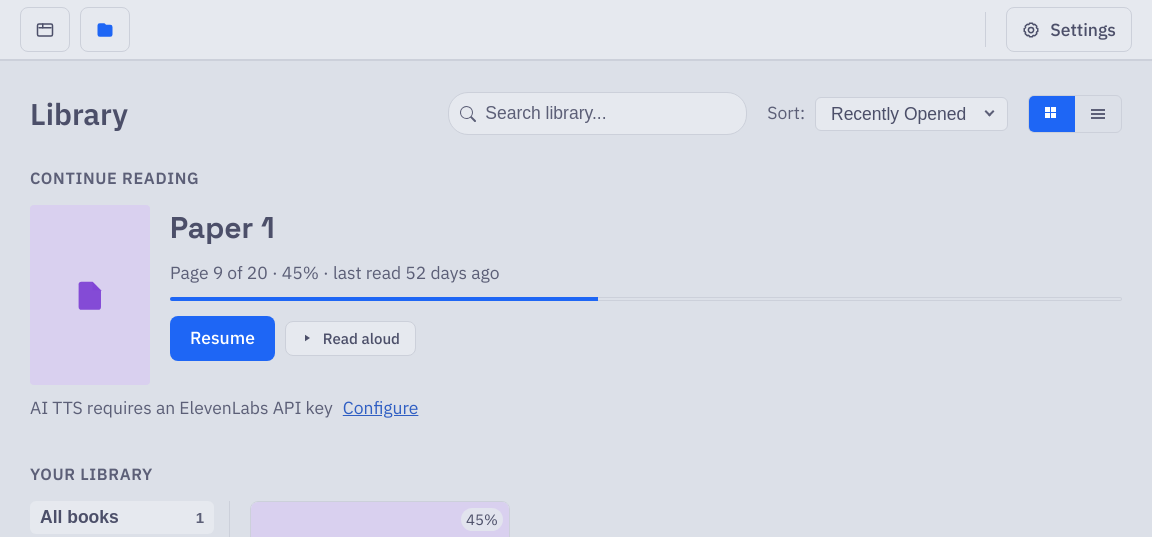
Scenario: restoring a reading session › fails closed on success=false: explicit error, no document opened (issue #185)
Expected: the heading "Library" is shown, [30,91,128,136]
Click the button named "Sessions". click: point(45, 30)
box: [20,7,70,52]
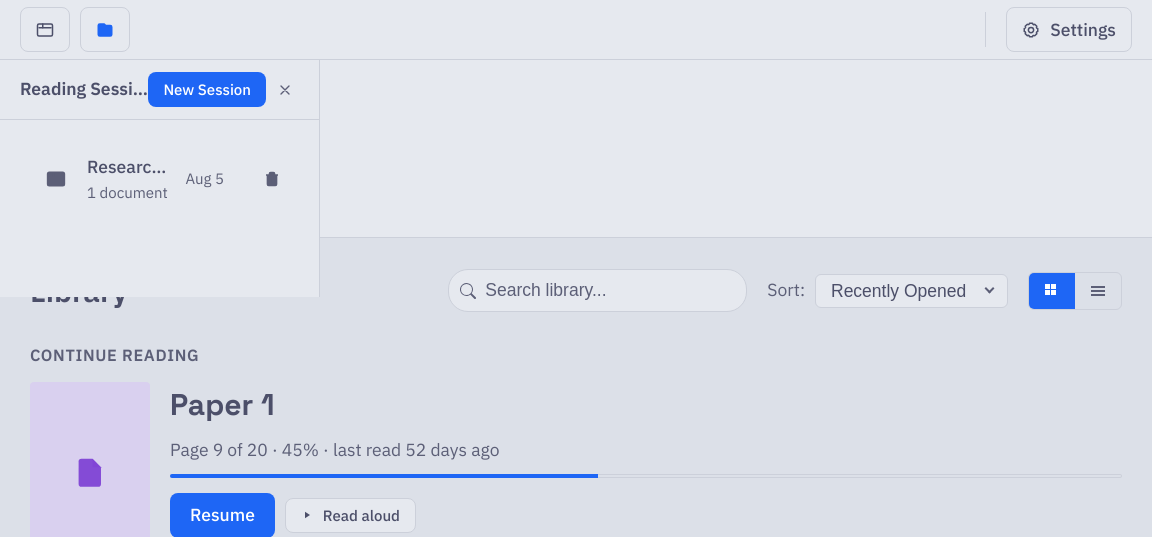
Click the button "Research Papers 1 document Aug 5". click: point(132, 178)
box: [20,140,244,217]
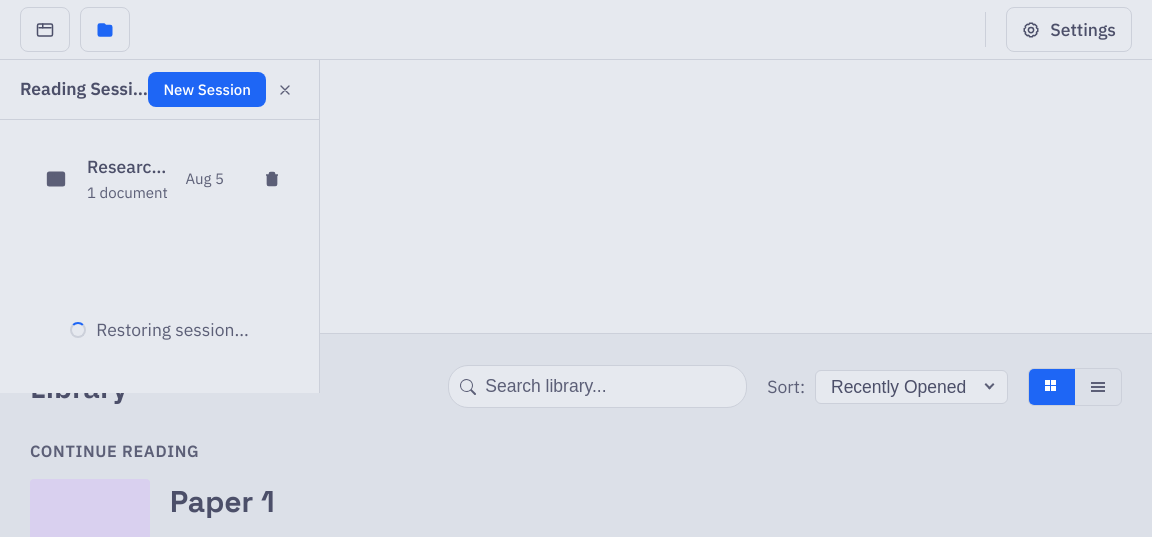
Click the button "Research Papers 1 document Aug 5". click: point(132, 178)
box: [20,140,244,217]
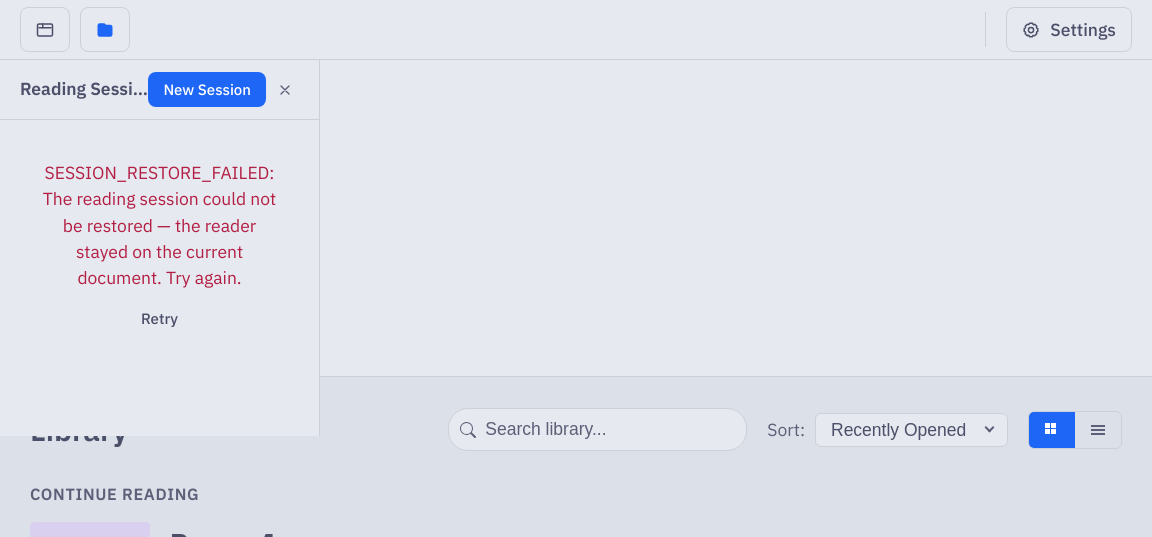
Expected: the heading "Library" is shown, [30,407,128,452]
Expected: the text "SESSION_RESTORE_FAILED" is shown, [43,161,276,289]
